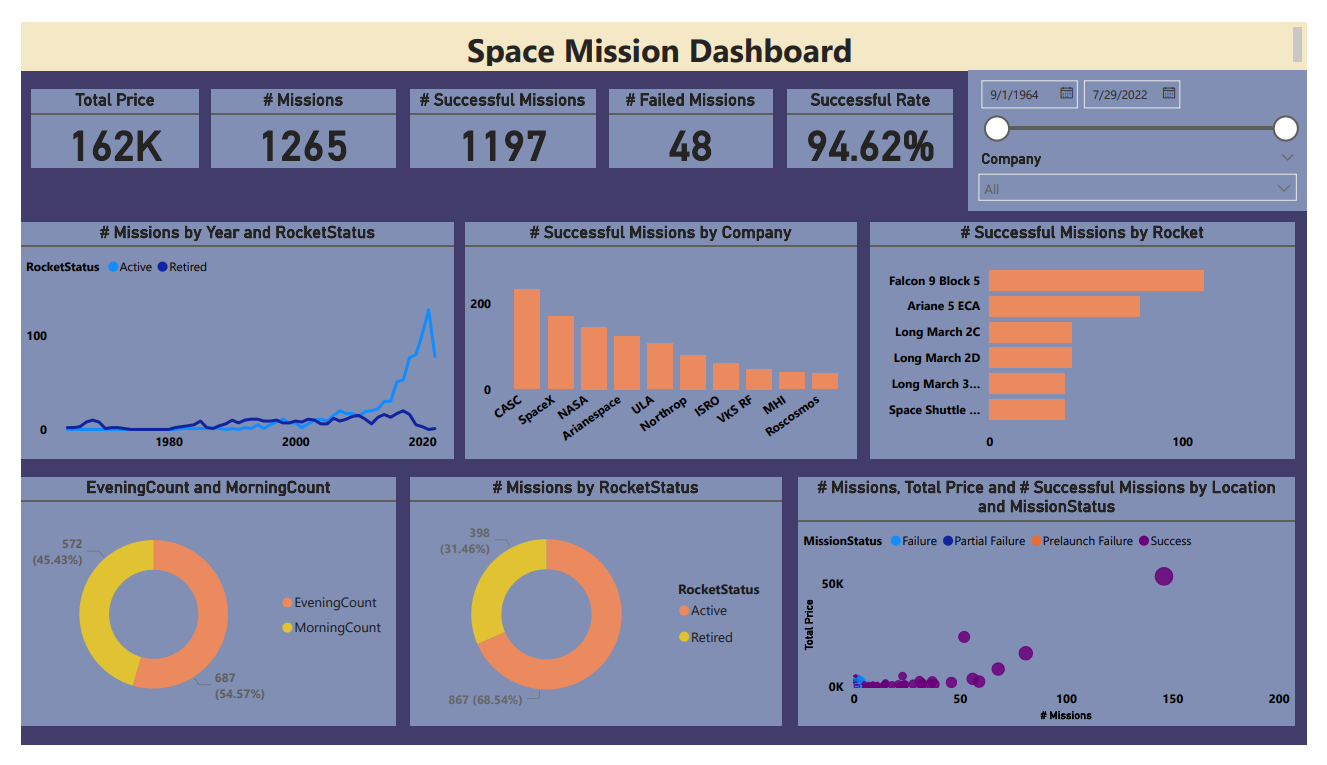

The dashboard page shown, as its layout file describes it:
{"tool":"powerbi","page":{"name":"Page 1","canvas":[1280,720],"ordinal":0},"visuals":[{"type":"lineChart","fields":{"Y":["_DAX Measures.# Missions"],"Category":["Space Missions.Date.Variation.Date Hierarchy.Year","Space Missions.Date.Variation.Date Hierarchy.Quarter","Space Missions.Date.Variation.Date Hierarchy.Month","Space Missions.Date.Variation.Date Hierarchy.Day"],"Series":["Space Missions.RocketStatus"]},"box":[0,199,430.9,236],"z":0},{"type":"donutChart","fields":{"Y":["_DAX Measures.EveningCount","_DAX Measures.MorningCount"]},"box":[0,452.8,373.2,248.4],"z":1000},{"type":"columnChart","fields":{"Category":["Space Missions.Company"],"Y":["_DAX Measures.# Successful Missions"]},"box":[441.9,199,389.7,236],"z":2000},{"type":"donutChart","fields":{"Y":["_DAX Measures.# Missions"],"Category":["Space Missions.RocketStatus"]},"box":[387,452.8,370.5,248.4],"z":3000},{"type":"barChart","fields":{"Category":["Space Missions.Rocket"],"Y":["_DAX Measures.# Successful Missions"]},"box":[845.3,199,422.6,236],"z":4000},{"type":"scatterChart","title":"# Missions, Total Price and # Successful Missions by Location and MissionStatus","fields":{"Category":["Space Missions.Location"],"Series":["Space Missions.MissionStatus"],"X":["_DAX Measures.# Missions"],"Y":["_DAX Measures.Total Price"],"Size":["_DAX Measures.# Successful Missions"]},"box":[773.9,452.8,494,248.4],"z":5000},{"type":"card","title":"Total Price","fields":{"Values":["_DAX Measures.Total Price"]},"box":[9.6,67.2,167.4,78.2],"z":6000},{"type":"textbox","box":[0,0,1280.3,48],"z":7000},{"type":"card","title":"Successful Rate","fields":{"Values":["_DAX Measures.Successful Rate"]},"box":[763,67.2,164.7,78.2],"z":8000},{"type":"card","title":"# Failed Missions","fields":{"Values":["_DAX Measures.# Failed Missions"]},"box":[584.6,67.2,163.3,78.2],"z":9000},{"type":"card","title":"# Successful Missions","fields":{"Values":["_DAX Measures.# Successful Missions"]},"box":[387,67.2,185.2,78.2],"z":10000},{"type":"card","title":"# Missions","fields":{"Values":["_DAX Measures.# Missions"]},"box":[189.4,67.2,183.9,78.2],"z":11000},{"type":"slicer","fields":{"Values":["Space Missions.Company"]},"box":[942.7,123.5,337.6,64.5],"z":12000},{"type":"slicer","fields":{"Values":["Space Missions.Date"]},"box":[942.7,48,337.6,75.5],"z":13000}]}

Visuals, with their boxes in screenshot pixels (x1, y1, x2, y2), scaled from the page's 1280x720 canvas onto the 1327x765 screenshot:
lineChart - _DAX Measures.# Missions x Space Missions.Date.Variation.Date Hierarchy.Year: 0:211:447:462
donutChart - _DAX Measures.EveningCount x _DAX Measures.MorningCount: 0:481:387:745
columnChart - Space Missions.Company x _DAX Measures.# Successful Missions: 458:211:862:462
donutChart - _DAX Measures.# Missions x Space Missions.RocketStatus: 401:481:785:745
barChart - Space Missions.Rocket x _DAX Measures.# Successful Missions: 876:211:1314:462
"# Missions, Total Price and # Successful Missions by Location and MissionStatus" scatterChart: 802:481:1314:745
"Total Price" card: 10:71:183:154
textbox: 0:0:1326:51
"Successful Rate" card: 791:71:962:154
"# Failed Missions" card: 606:71:775:154
"# Successful Missions" card: 401:71:593:154
"# Missions" card: 196:71:387:154
slicer - Space Missions.Company: 977:131:1326:200
slicer - Space Missions.Date: 977:51:1326:131
